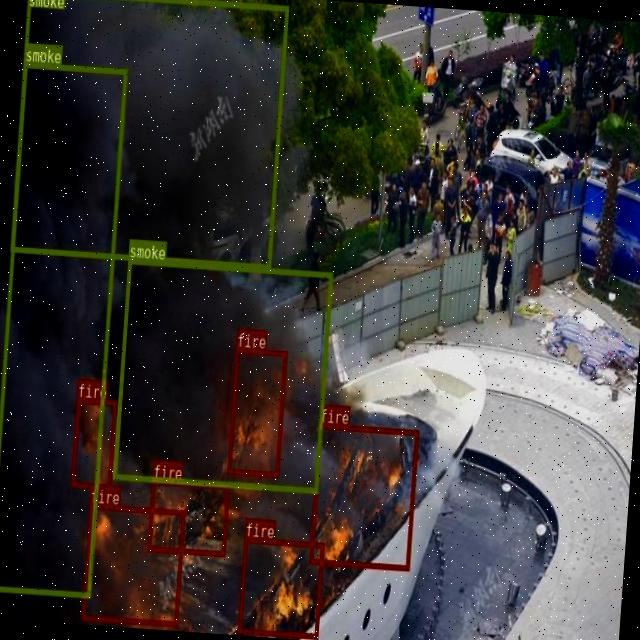fire: (307, 422, 418, 570), (81, 503, 185, 625), (237, 536, 324, 638), (226, 346, 287, 476), (146, 478, 229, 556), (70, 397, 116, 488)
smoke: (8, 0, 288, 268), (0, 60, 127, 596), (111, 257, 332, 492)
